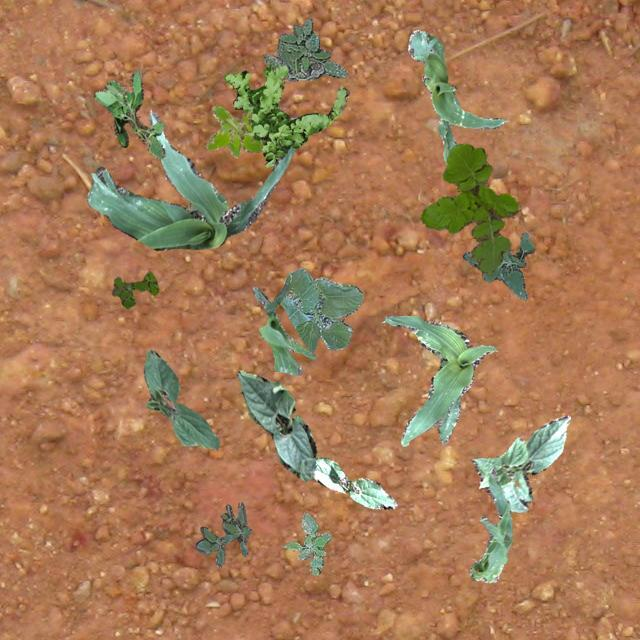crop: (86, 108, 294, 250), (384, 314, 496, 444), (407, 28, 508, 162), (470, 414, 570, 512), (237, 370, 316, 480), (142, 349, 218, 448), (280, 268, 362, 352), (252, 282, 316, 374), (468, 466, 512, 582), (310, 456, 396, 508)
weed: (420, 142, 518, 272), (224, 64, 348, 165), (92, 68, 164, 158), (262, 17, 346, 80), (462, 232, 534, 298), (194, 502, 250, 566), (204, 104, 260, 156), (284, 512, 329, 574), (110, 270, 158, 308)
